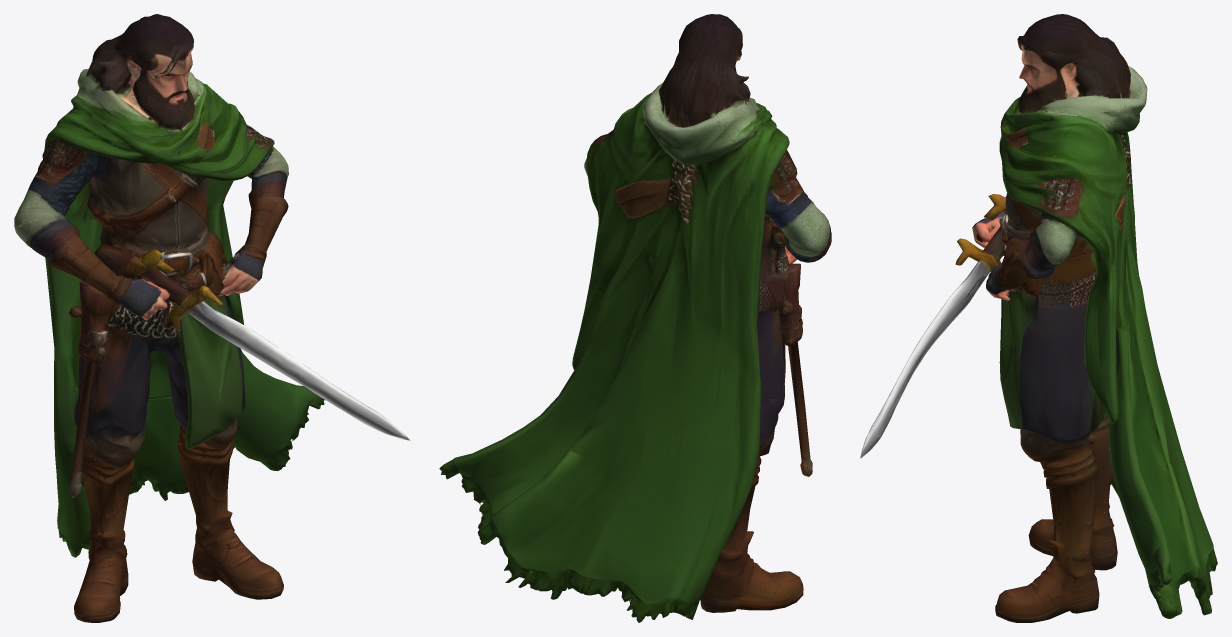
Rendered from kael.glb.
The picture shows the model from 3 angles, left to right: view 1: azimuth 30°, elevation 25°; view 2: azimuth 150°, elevation 25°; view 3: azimuth 270°, elevation 25°; orthographic projection. The views are drawn at different scales.
Size of the model in its own units: 1.21 by 1.91 by 1.11.
1 material, 1 textured.
